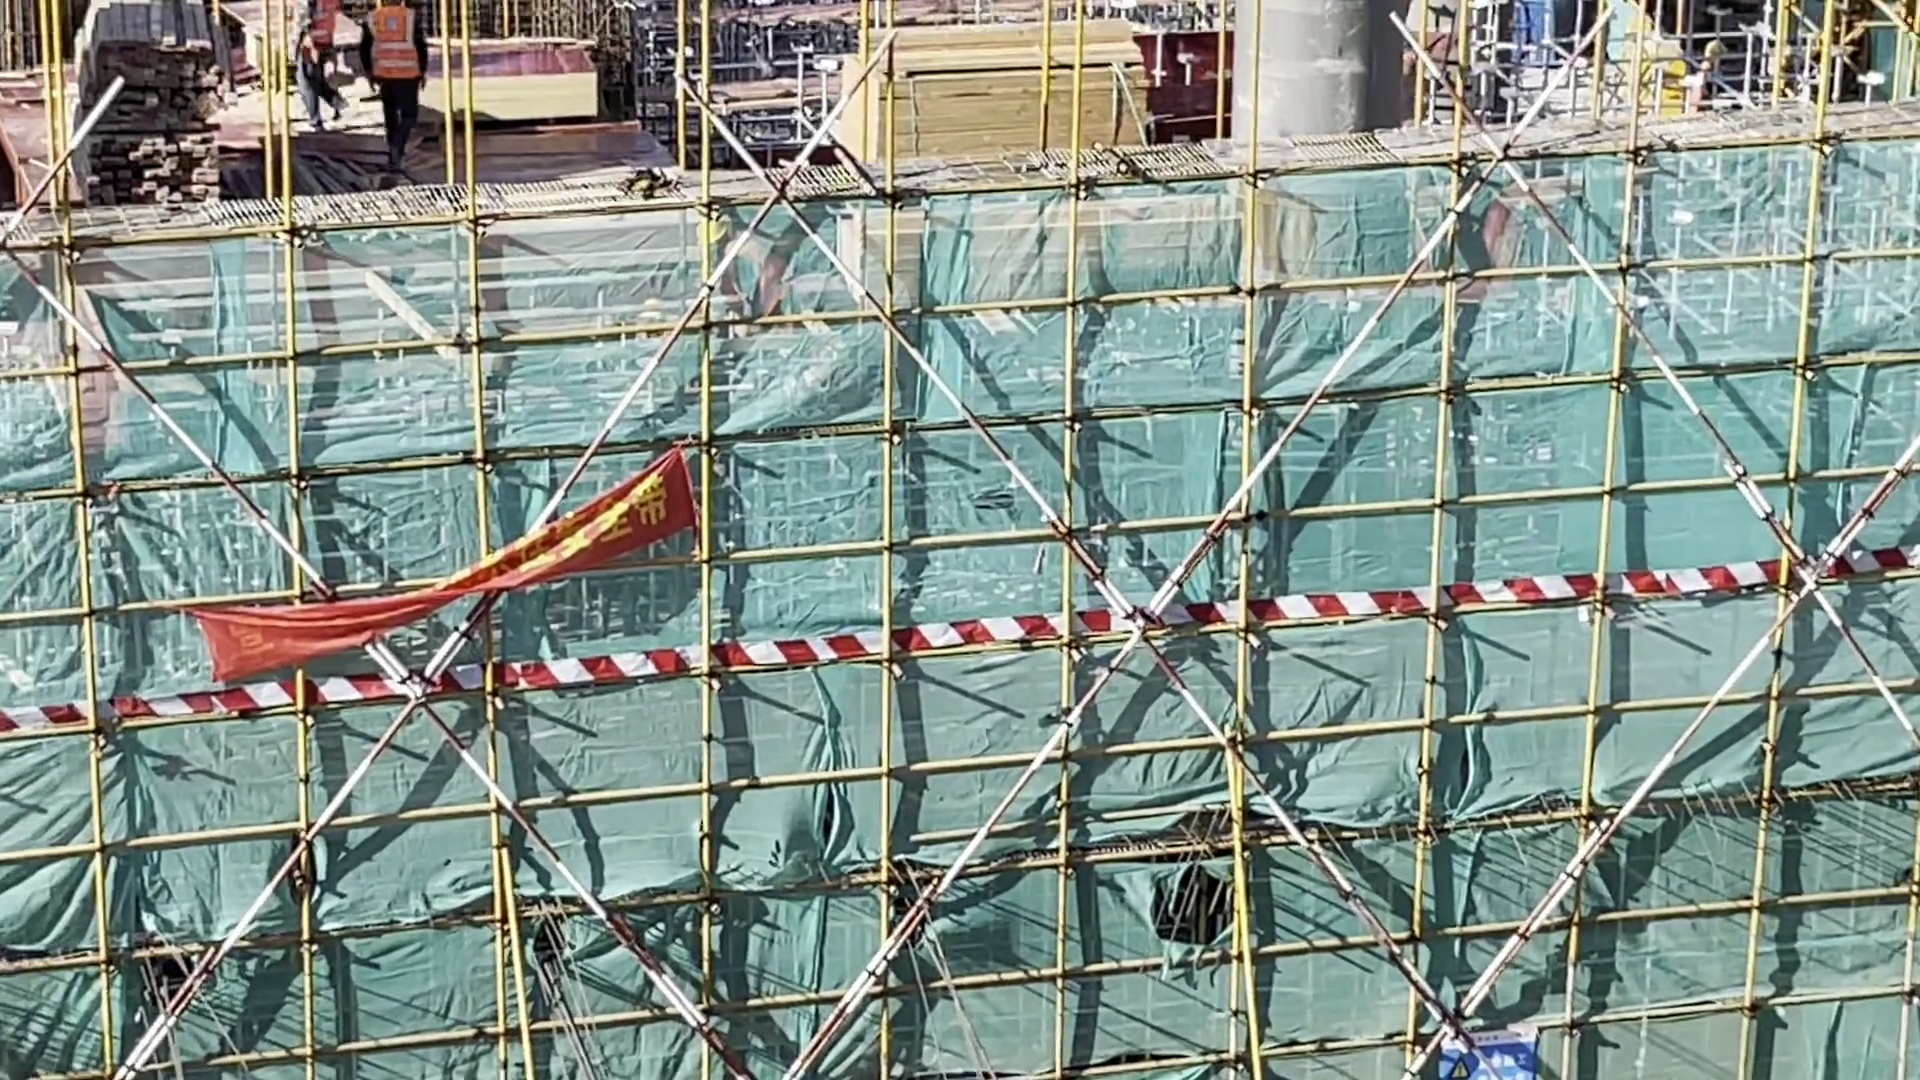person: (361, 1, 421, 183), (289, 1, 352, 134)
slogan: (204, 449, 691, 667), (1417, 1022, 1543, 1080)
vest: (368, 6, 427, 82), (310, 1, 337, 56)
wood: (837, 17, 1176, 164), (76, 1, 226, 214)
